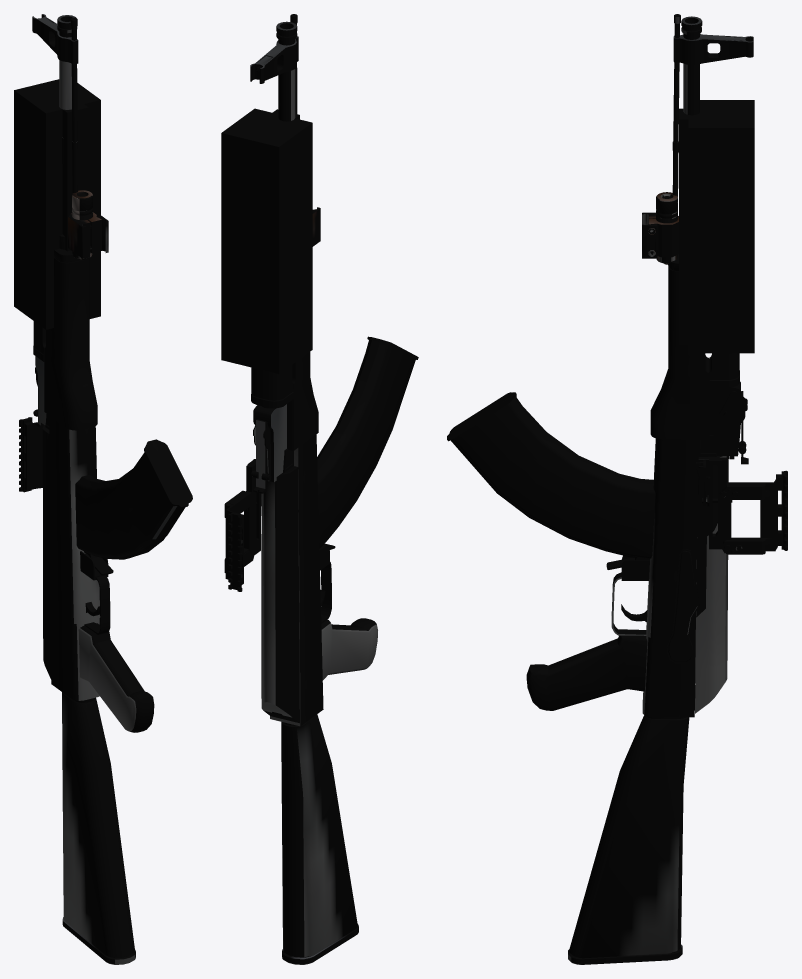
File: AK47__Handguard_AK_Quad__Light_Pistol__Mount_AK_SideRail.fbx
3 views of the same model, side by side, from view 1: azimuth 30°, elevation 25°; view 2: azimuth 150°, elevation 25°; view 3: azimuth 270°, elevation 25° (orthographic). The views are drawn at different scales.
Parts seen in each view (by area): view 1: asset_AK47.001; view 2: asset_AK47.001; view 3: asset_AK47.001.
Part boxes in pixels (x1,y1,x2,y2): asset_AK47.001: [14, 14, 192, 964]; asset_AK47.001: [221, 14, 418, 964]; asset_AK47.001: [447, 14, 787, 964].
Bounding box in the file's own units: 0.0336 × 0.528 × 0.173.
